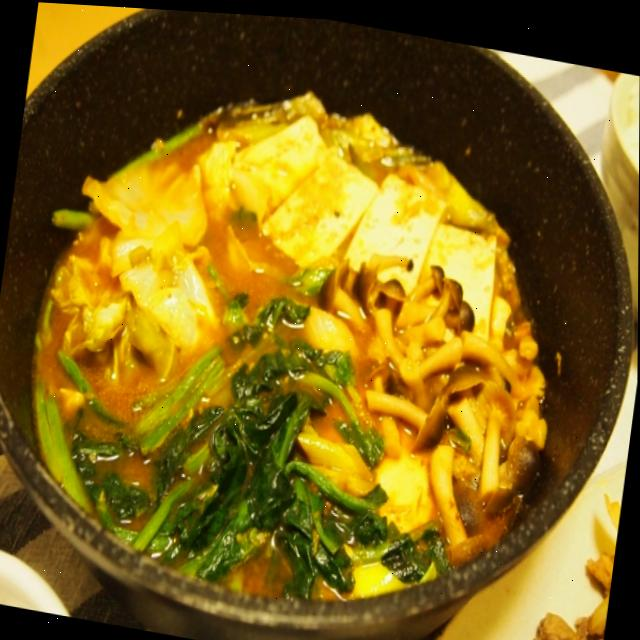汤锅炖物: (0, 7, 615, 635)
